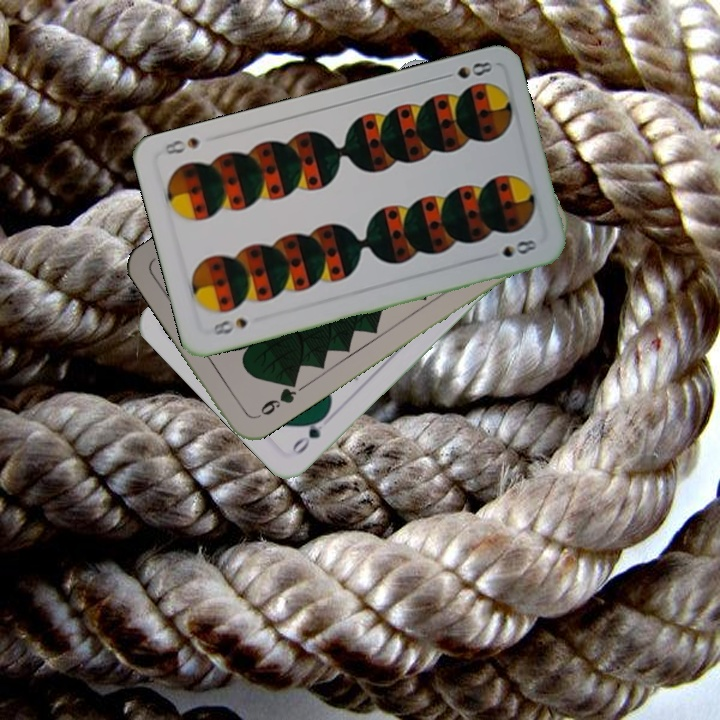G9: (251, 377, 300, 422)
GO: (287, 408, 331, 458)
S8: (437, 57, 495, 82), (205, 314, 250, 338)
